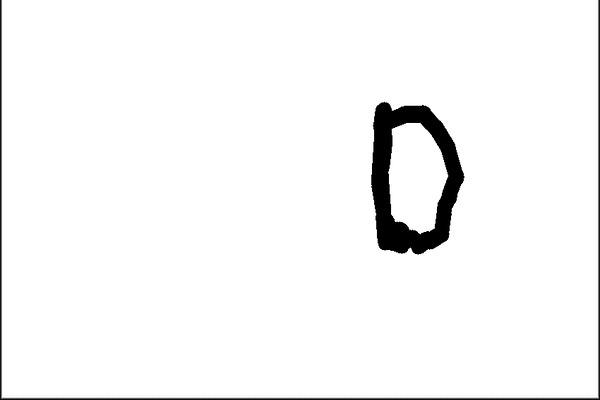D: (364, 96, 472, 264)
